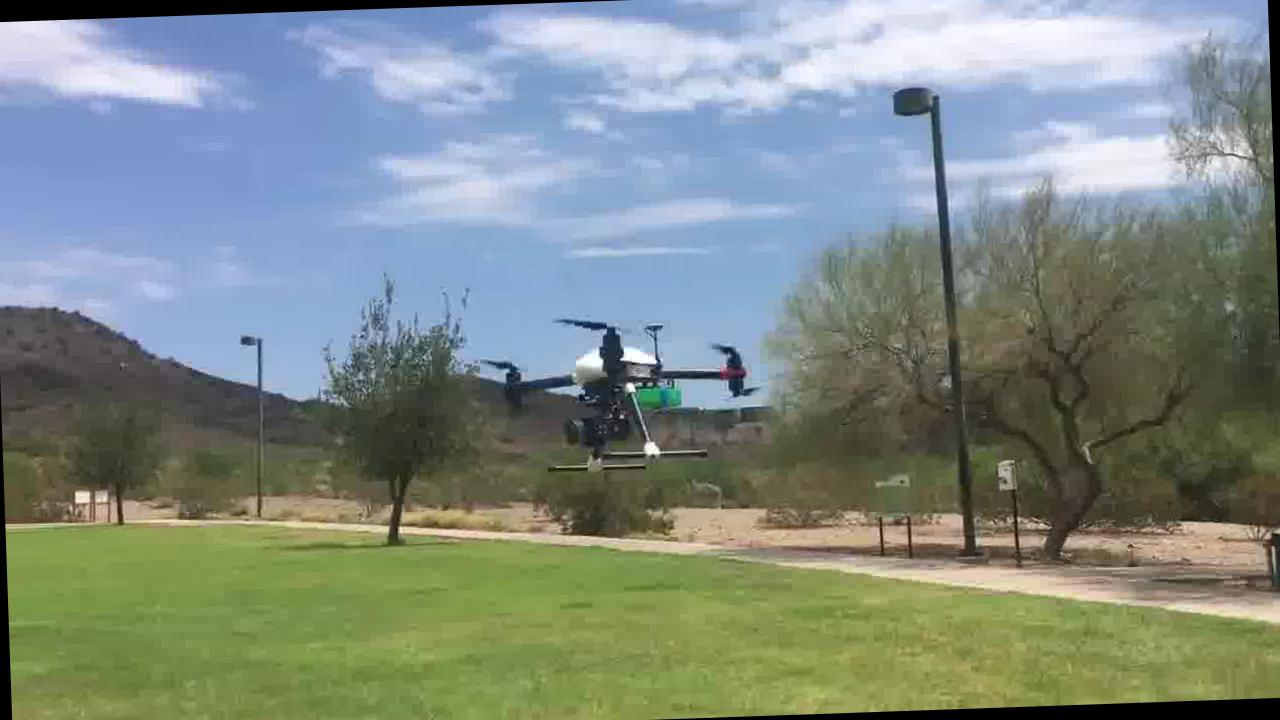drone: (483, 317, 755, 480)
